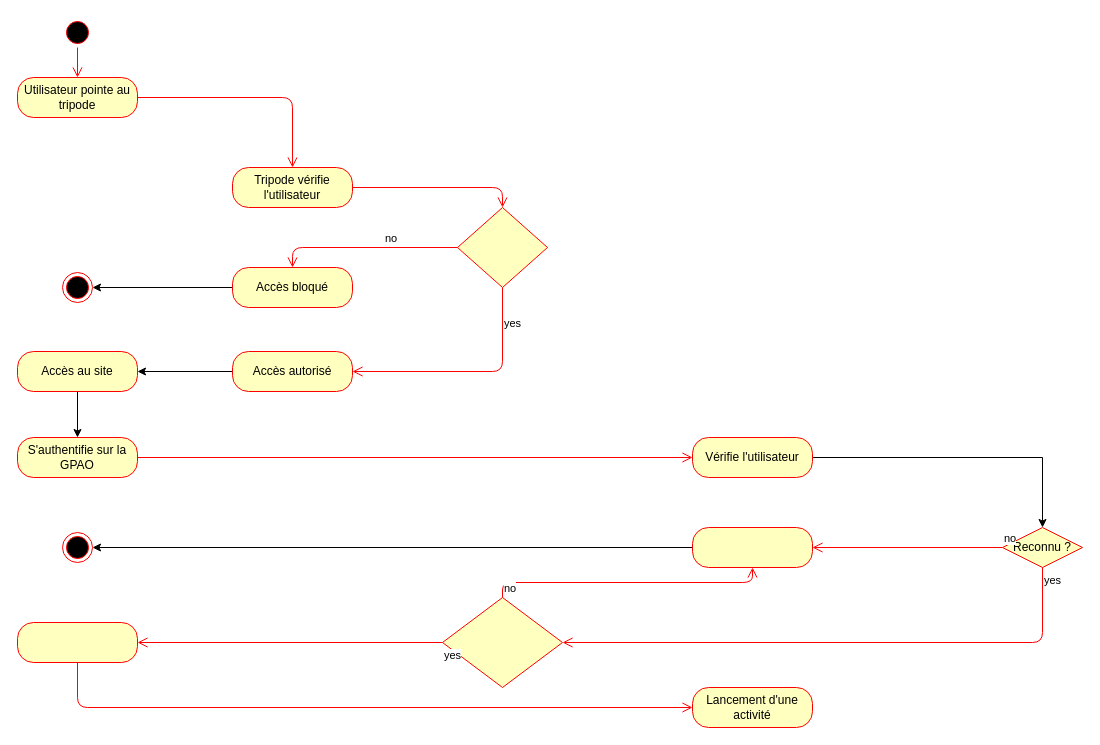
Some shapes in this 1100 by 745 pixel diagram are drawn without their labels. The shapes that lost their labels are listed below. From the top down, each one's box as (x1, y1, x2, y2) in pixels, then its label:
(456, 206, 548, 288): Utilisateur existant ?
(692, 526, 812, 568): Bloquer le bandeau
(16, 622, 138, 662): Peut lancer une activité
(442, 596, 562, 688): Pointage d'entrée existant ?
